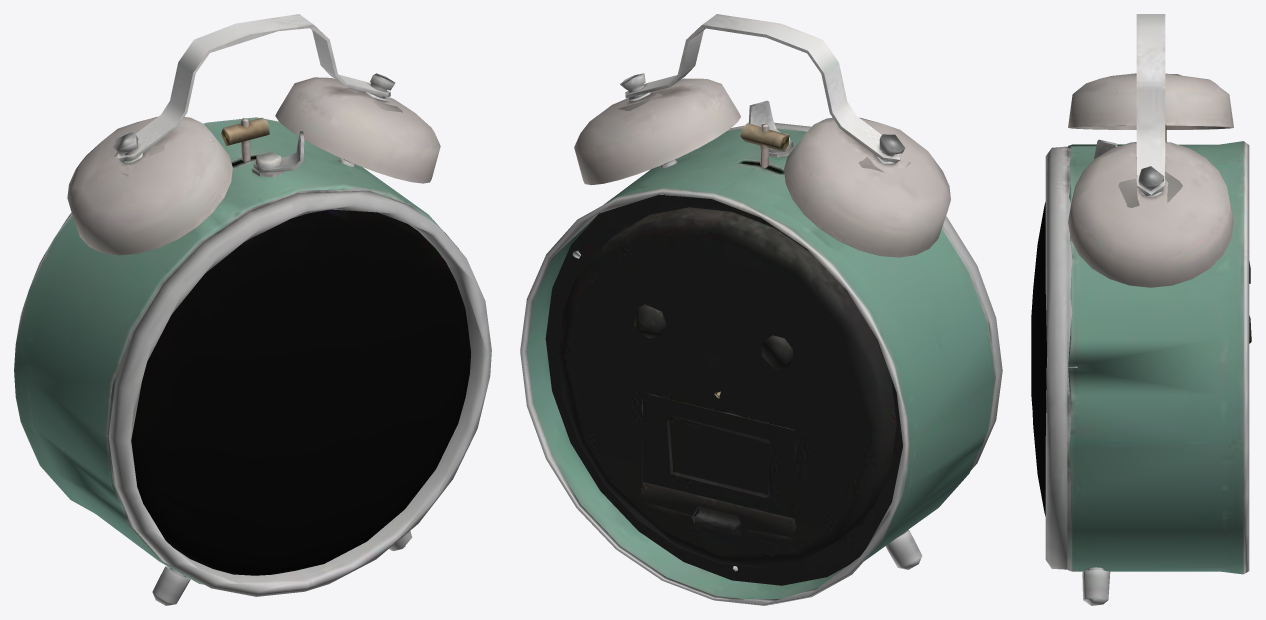
Rendered from hp_room_cc0_clock.glb.
The picture shows the model from 3 angles, left to right: view 1: azimuth 30°, elevation 25°; view 2: azimuth 150°, elevation 25°; view 3: azimuth 270°, elevation 25°; orthographic projection. The views are drawn at different scales.
Parts seen in each view (by area): view 1: alarm_clock_01; view 2: alarm_clock_01; view 3: alarm_clock_01.
Part boxes in pixels (x1,y1,x2,y2): alarm_clock_01: (14,14,491,605); alarm_clock_01: (520,14,1002,605); alarm_clock_01: (1031,14,1251,605).
Bounding box in the file's own units: 0.1312 × 0.1738 × 0.0666.
2 materials, 2 textured.
